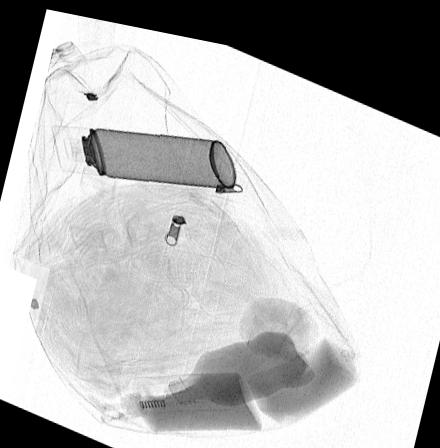Sprayer: (50, 122, 235, 179)
